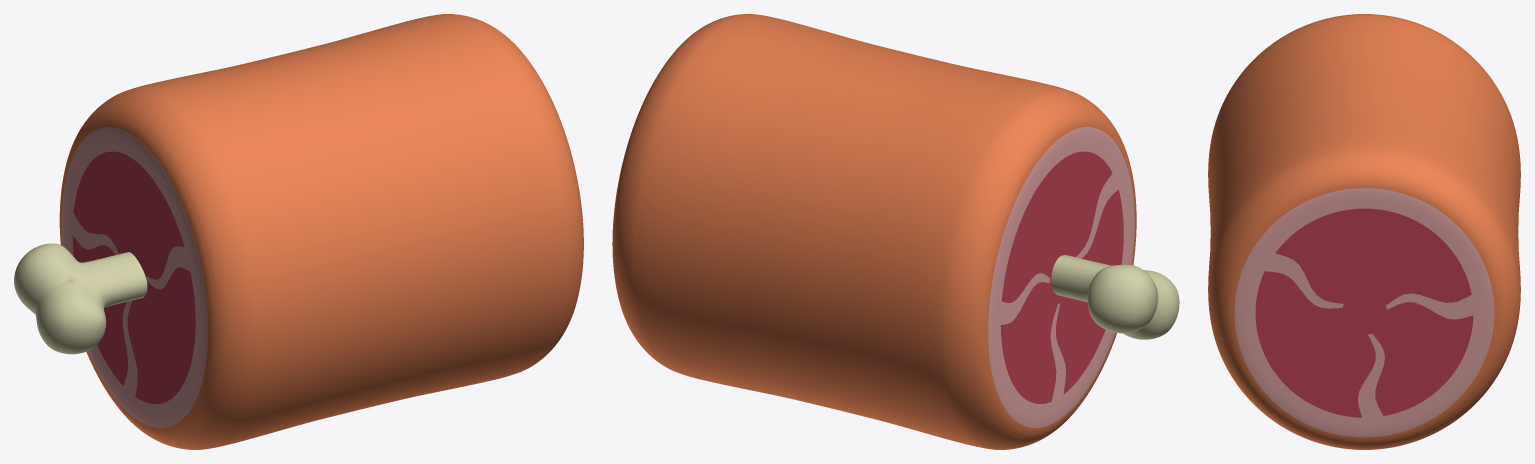
The model's file is distractor_meat.fbx.
The picture shows the model from 3 angles, left to right: view 1: azimuth 30°, elevation 25°; view 2: azimuth 150°, elevation 25°; view 3: azimuth 270°, elevation 25°; orthographic projection. The views are drawn at different scales.
Visible parts, largest first — view 1: Meat, bone; view 2: Meat, bone; view 3: Meat.
Part boxes in pixels (box(x1,y1,x2,y2)): Meat: box(59, 14, 583, 449); bone: box(14, 243, 147, 354); Meat: box(612, 14, 1136, 449); bone: box(1051, 255, 1179, 339); Meat: box(1208, 14, 1520, 449).
Size of the model in its own units: 103 by 69.5 by 65.64.
